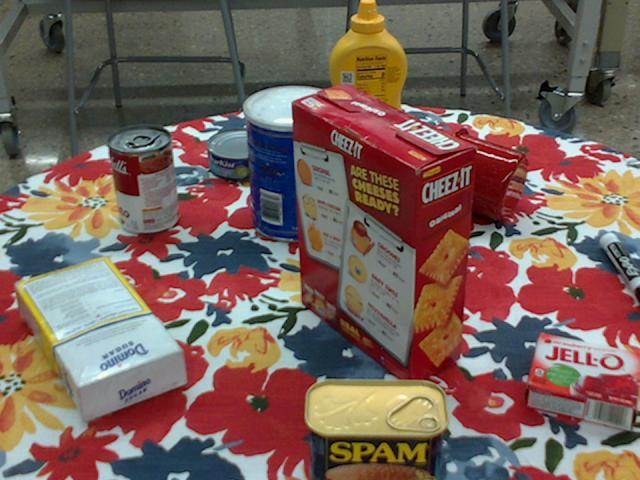cracker_box: (290, 86, 473, 389)
gelatin_box: (523, 332, 639, 427)
large_marker: (599, 230, 639, 302)
master_chef_can: (243, 85, 341, 242)
mug: (431, 128, 526, 220)
mustard_bottle: (328, 0, 405, 157)
potted_meat_can: (302, 380, 448, 479)
sugar_box: (16, 260, 185, 419)
tomato_soup_can: (108, 125, 178, 235)
tuna_fish_can: (208, 127, 277, 180)
